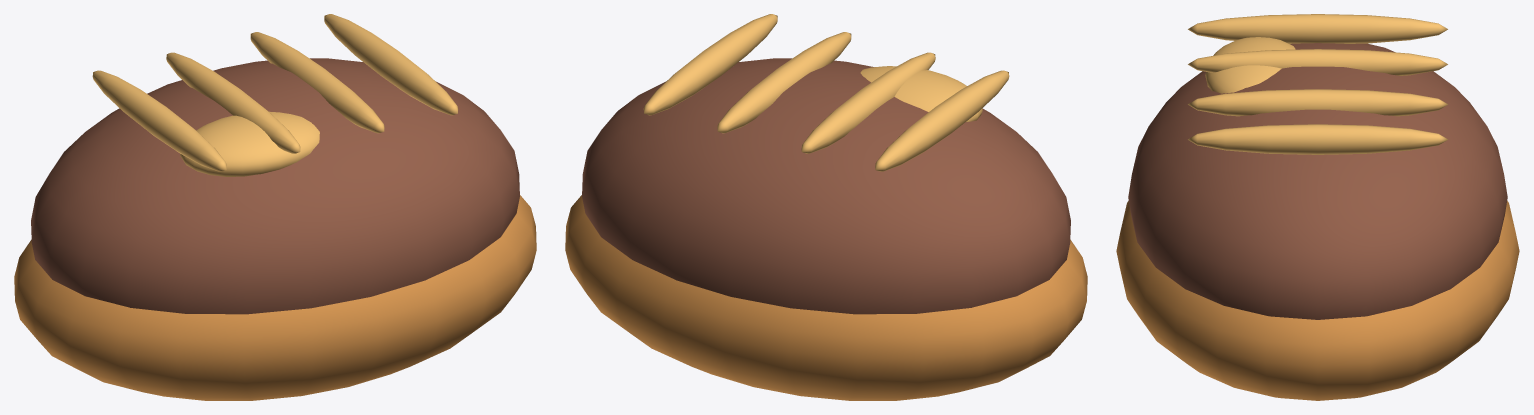
File: bread_cocoa_unity.glb
The picture shows the model from 3 angles, left to right: view 1: azimuth 30°, elevation 25°; view 2: azimuth 150°, elevation 25°; view 3: azimuth 270°, elevation 25°; orthographic projection. The views are drawn at different scales.
Parts seen in each view (by area): view 1: Cocoa bun domed top, Cocoa bun lower crust, Cocoa top highlight, Chocolate drizzle, Chocolate drizzle.003, Chocolate drizzle.002, Chocolate drizzle.001; view 2: Cocoa bun domed top, Cocoa bun lower crust, Chocolate drizzle, Chocolate drizzle.003, Chocolate drizzle.002, Chocolate drizzle.001, Cocoa top highlight; view 3: Cocoa bun domed top, Cocoa bun lower crust, Chocolate drizzle.003, Chocolate drizzle, Chocolate drizzle.002, Chocolate drizzle.001, Cocoa top highlight.
Part boxes in pixels (box(x1,y1,x2,y2)): Cocoa bun domed top: box(31, 58, 519, 314); Cocoa bun lower crust: box(14, 195, 536, 400); Cocoa top highlight: box(180, 111, 319, 176); Chocolate drizzle: box(92, 70, 226, 171); Chocolate drizzle.003: box(324, 14, 458, 115); Chocolate drizzle.002: box(250, 32, 384, 133); Chocolate drizzle.001: box(166, 52, 300, 153); Cocoa bun domed top: box(582, 58, 1070, 314); Cocoa bun lower crust: box(565, 195, 1087, 400); Chocolate drizzle: box(875, 70, 1009, 171); Chocolate drizzle.003: box(643, 14, 777, 115); Chocolate drizzle.002: box(717, 32, 851, 133); Chocolate drizzle.001: box(801, 52, 935, 153); Cocoa top highlight: box(860, 66, 982, 121); Cocoa bun domed top: box(1128, 43, 1507, 319); Cocoa bun lower crust: box(1116, 201, 1519, 400); Chocolate drizzle.003: box(1188, 124, 1447, 154); Chocolate drizzle: box(1188, 14, 1447, 43); Chocolate drizzle.002: box(1188, 89, 1447, 116); Chocolate drizzle.001: box(1188, 49, 1447, 75); Cocoa top highlight: box(1205, 37, 1295, 93).
Size of the model in its own units: 0.92 by 0.516 by 0.68.
